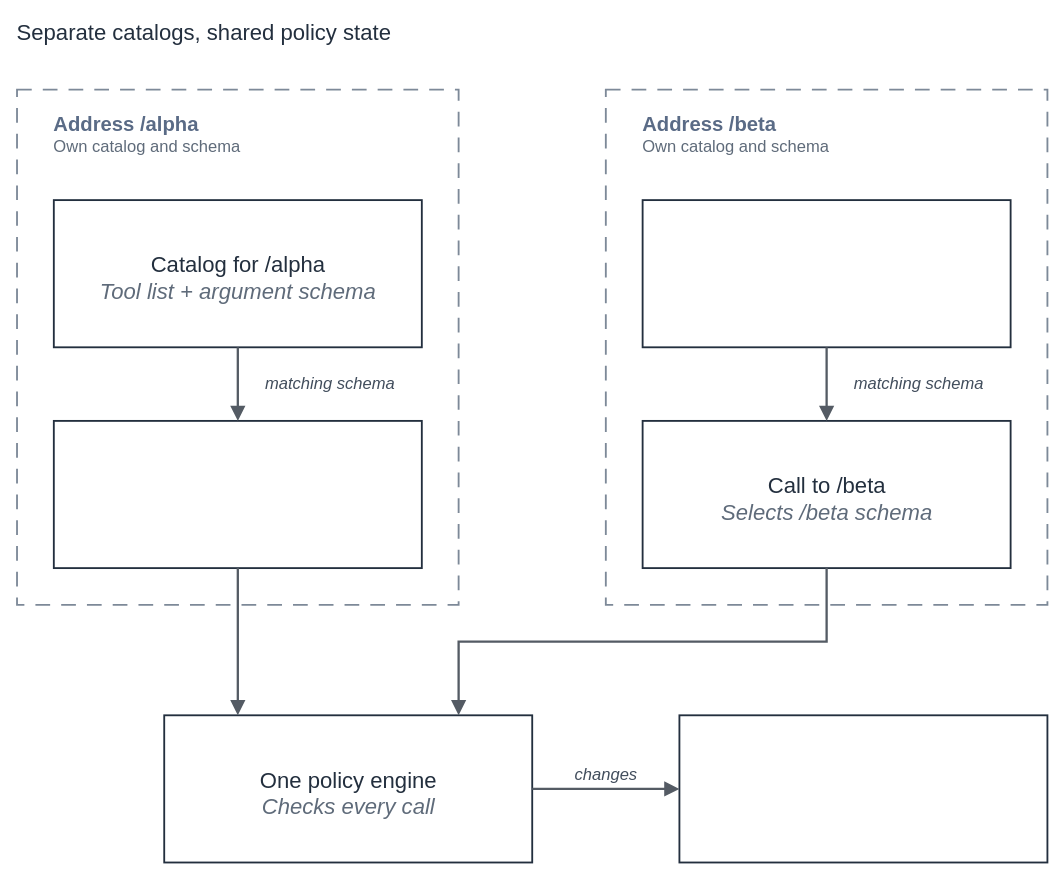
Image size: 1064x879. Some labels were removed from this diagram. The shapes that lost their labels are listed below. From the top down, each one's centre as x and y in pixels, then its label:
point (826, 273): Catalog for /beta Tool list + argument schema
point (237, 494): Call to /alpha Selects /alpha schema
point (863, 788): One policy history Shared across sources
